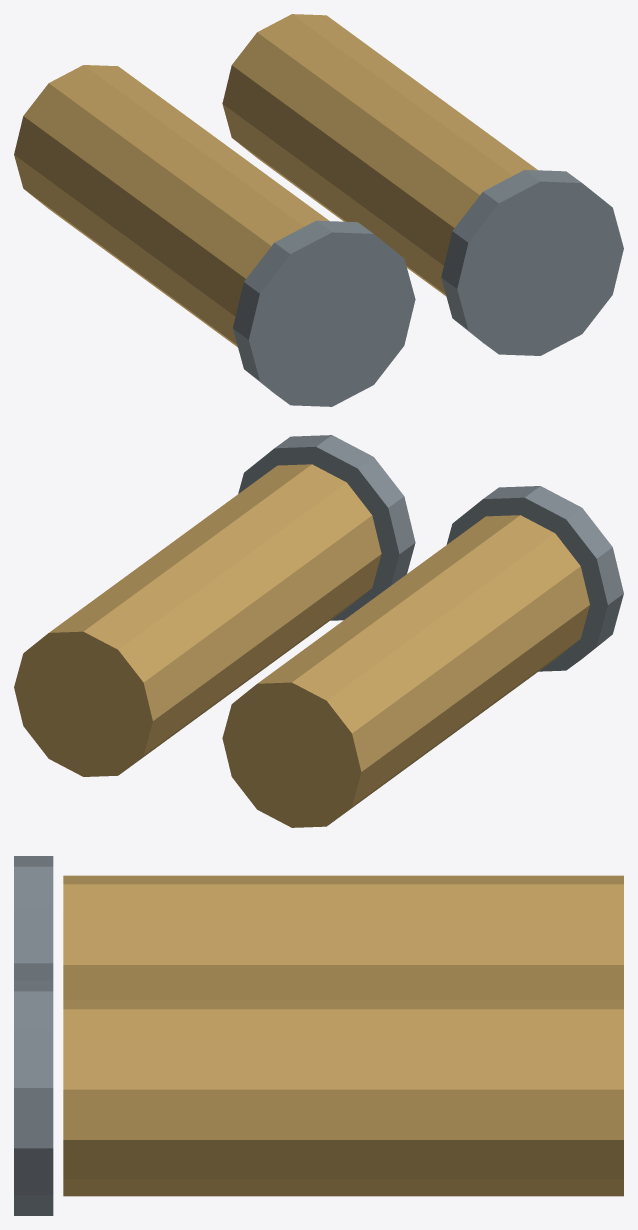
File: weapon_elk12_magazine.glb
The picture shows the model from 3 angles, top to bottom: view 1: azimuth 30°, elevation 25°; view 2: azimuth 150°, elevation 25°; view 3: azimuth 270°, elevation 25°; orthographic projection. The views are drawn at different scales.
Visible parts, largest first — view 1: Geometry_weapon_elk12_magazine; view 2: Geometry_weapon_elk12_magazine; view 3: Geometry_weapon_elk12_magazine.
Part boxes in pixels (left/top/right/bottom): Geometry_weapon_elk12_magazine: left=14, top=14, right=623, bottom=406; Geometry_weapon_elk12_magazine: left=14, top=435, right=623, bottom=827; Geometry_weapon_elk12_magazine: left=14, top=856, right=623, bottom=1215.
Size of the model in its own units: 0.054 by 0.024 by 0.062.
